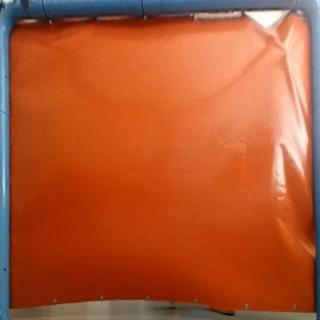Hit-hRxx: (276, 42, 292, 56)
